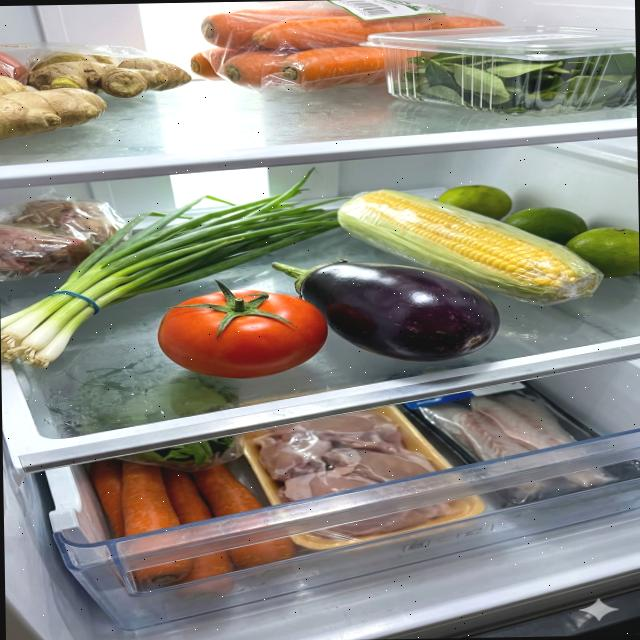carrot: (189, 3, 511, 92), (92, 454, 268, 540), (131, 536, 299, 585)
chicken: (252, 408, 438, 502)
corn: (336, 184, 605, 310)
curry_leaves: (402, 41, 636, 117)
eggplant: (272, 258, 502, 364)
fish: (422, 389, 578, 462)
ginger: (0, 51, 192, 140)
lime: (502, 204, 638, 280), (434, 184, 513, 222)
spring_onion: (0, 164, 356, 369)
tomato: (154, 276, 328, 381)
